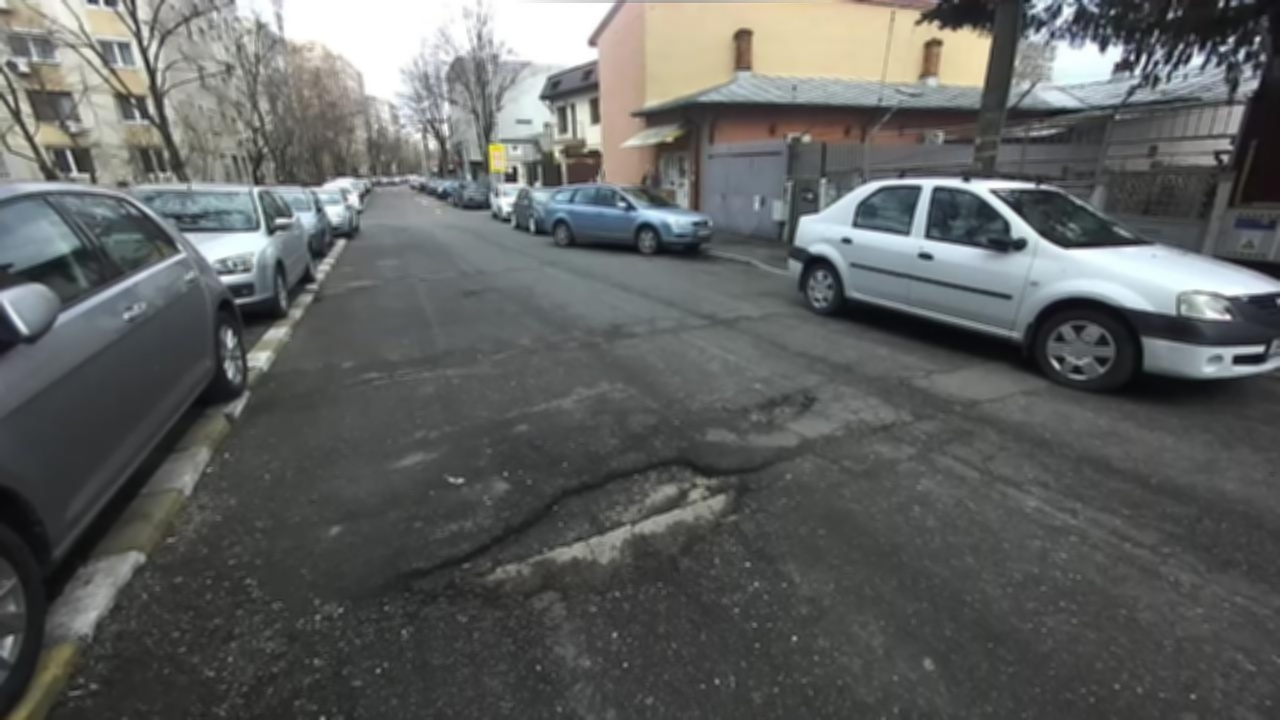pothole: (373, 447, 801, 612), (725, 379, 829, 429), (345, 361, 439, 388)
